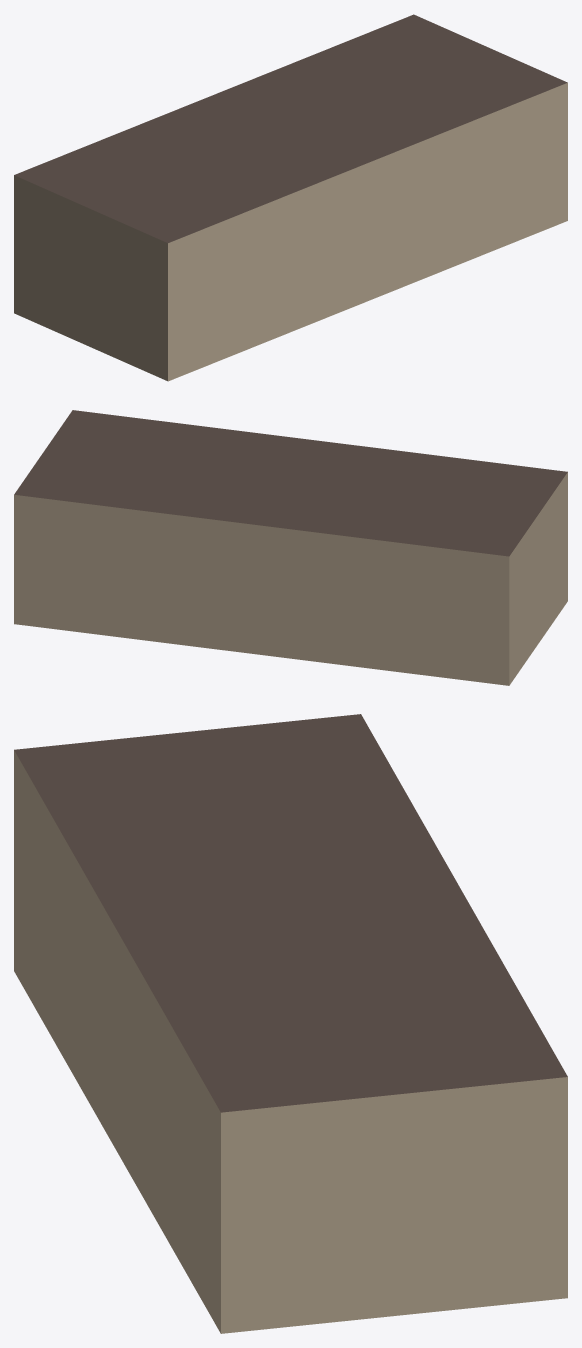
The picture shows the model from 3 angles, top to bottom: view 1: azimuth 30°, elevation 25°; view 2: azimuth 150°, elevation 25°; view 3: azimuth 270°, elevation 25°; orthographic projection. The views are drawn at different scales.
Visible parts, largest first — view 1: HP-w859457413; view 2: HP-w859457413; view 3: HP-w859457413.
Boxes of the visible parts, x1,y1,x2,y2 form: HP-w859457413: (14,14,567,381); HP-w859457413: (14,410,567,685); HP-w859457413: (14,714,567,1333).
Size of the model in its own units: 34.77 by 9 by 20.42.
